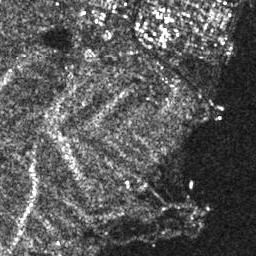ship: (215, 114, 223, 122), (207, 98, 214, 107), (187, 179, 193, 189), (216, 105, 224, 111)
